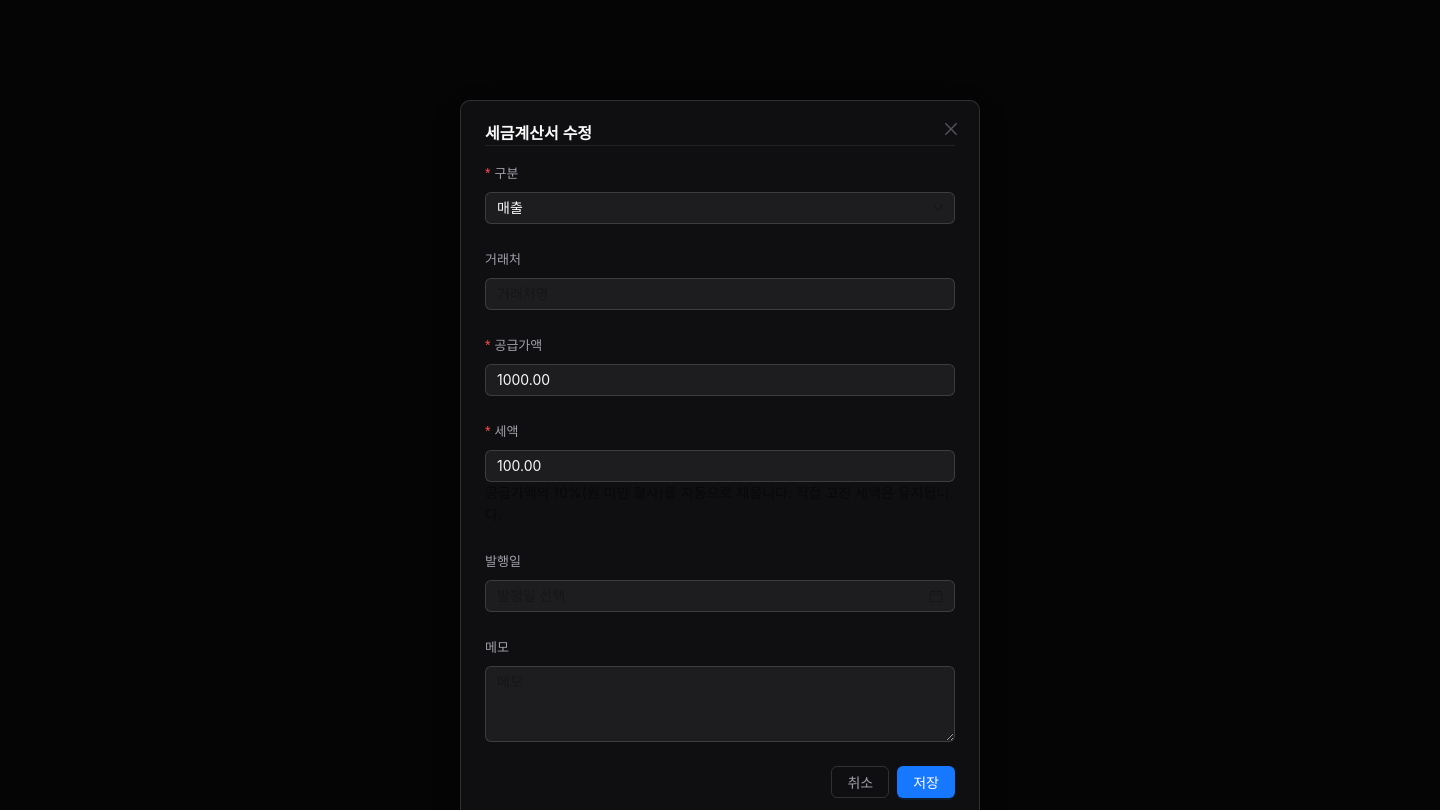
Scenario: TaxEditModal › 공급가액을 바꾸면 세액을 10%로 다시 채우고, 직접 고친 세액은 덮어쓰지 않는다
Replace the text in the number field with placeholder "공급가액" with "273005" at {"x": 720, "y": 380}, box top-left (486, 365), bottom-right (954, 395)
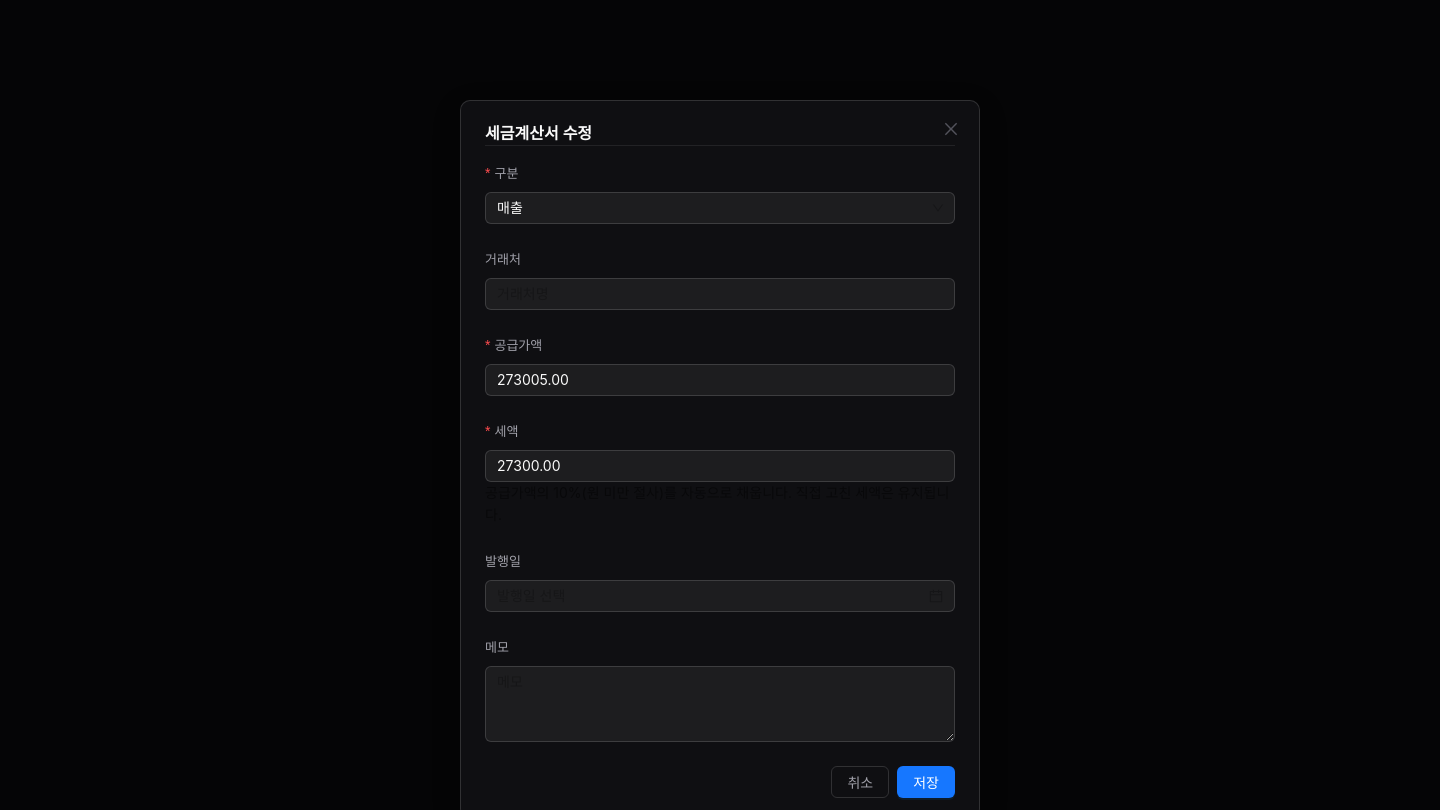
Expected: the number field with placeholder "세액" holds "27300.00"
Replace the text in the number field with placeholder "세액" with "27000" at {"x": 720, "y": 466}, box top-left (486, 451), bottom-right (954, 481)
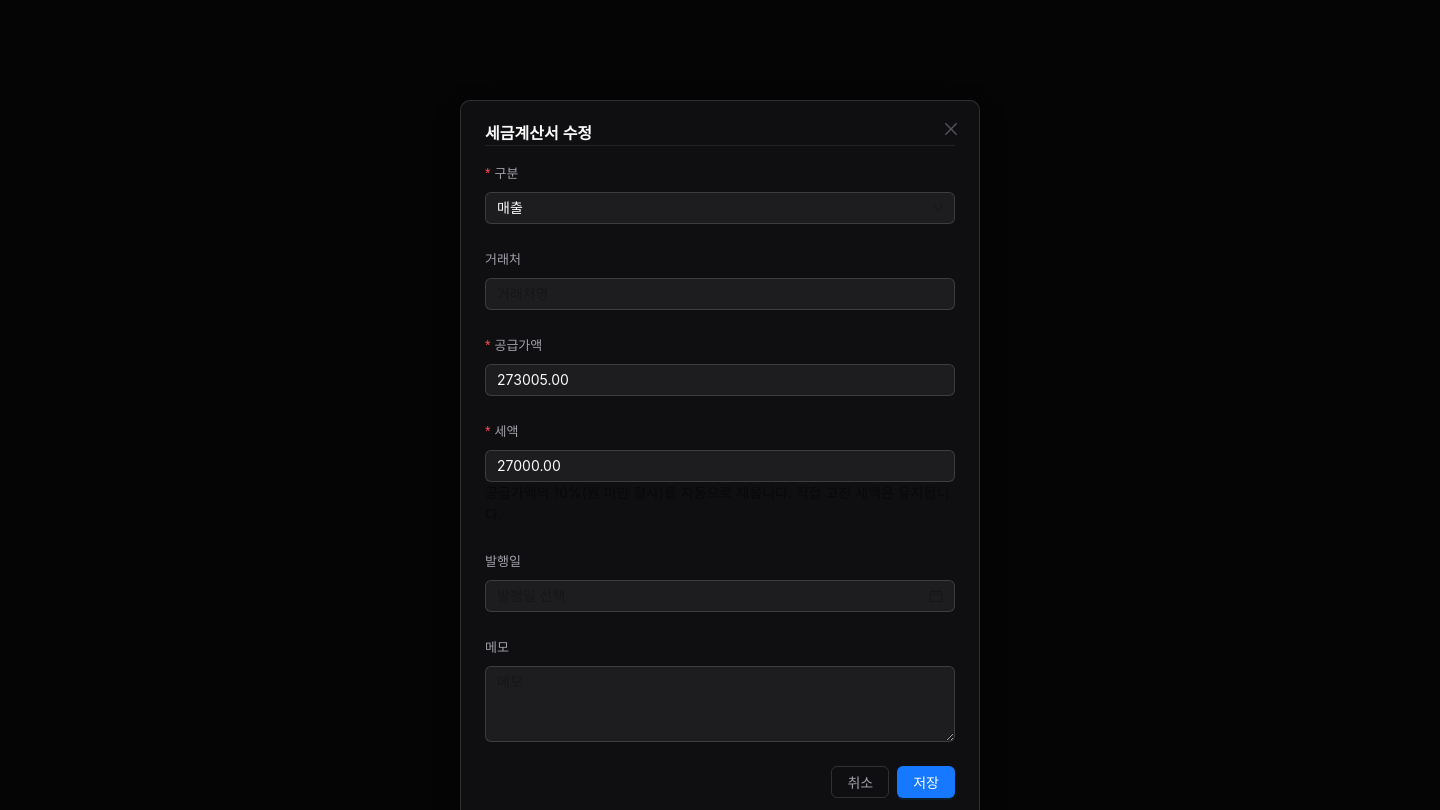
Replace the text in the number field with placeholder "공급가액" with "300000" at {"x": 720, "y": 380}, box top-left (486, 365), bottom-right (954, 395)
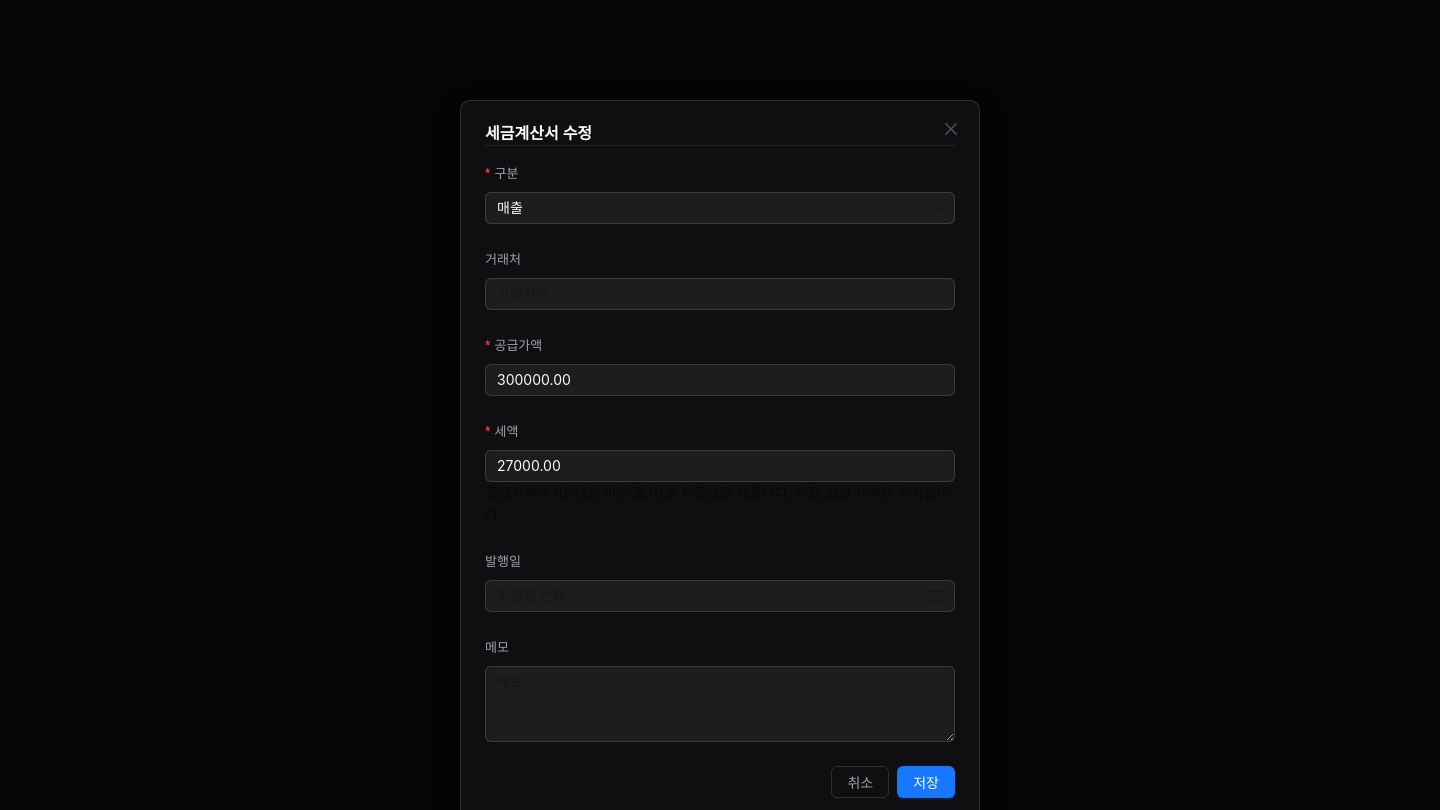
Expected: the number field with placeholder "세액" holds "27000.00", top-left (486, 451), bottom-right (954, 481)
Expected: the number field with placeholder "공급가액" holds "300000.00", top-left (486, 365), bottom-right (954, 395)
